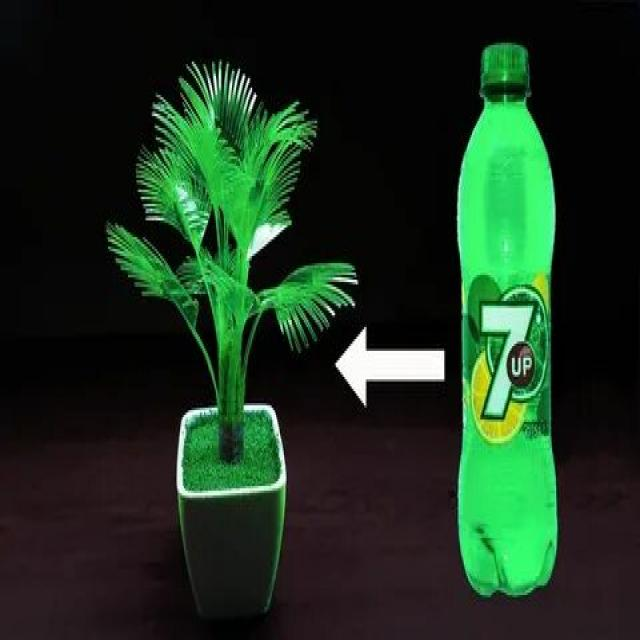green: (457, 90, 558, 596)
